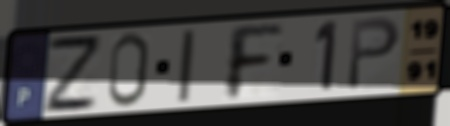0: (107, 29, 151, 110)
1: (312, 18, 338, 94)
F: (225, 23, 286, 103)
I: (176, 27, 198, 105)
P: (344, 14, 403, 93)
Z: (41, 34, 102, 116)
